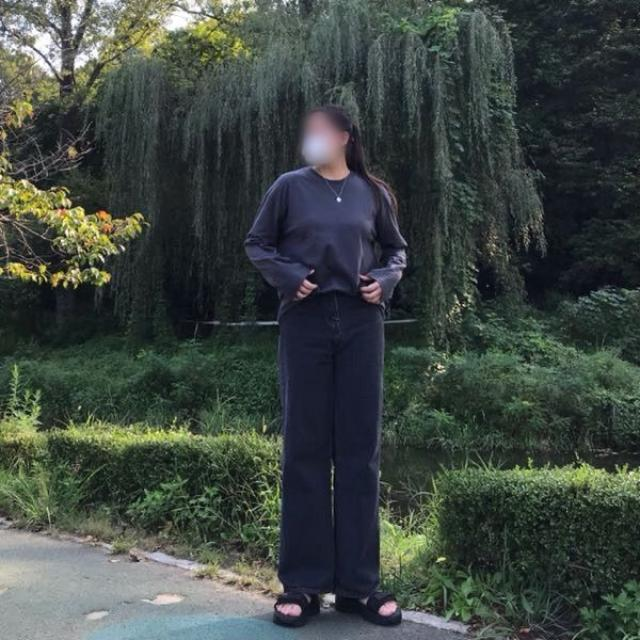denimpants: (278, 292, 385, 596)
longsleeve: (244, 165, 406, 318)
